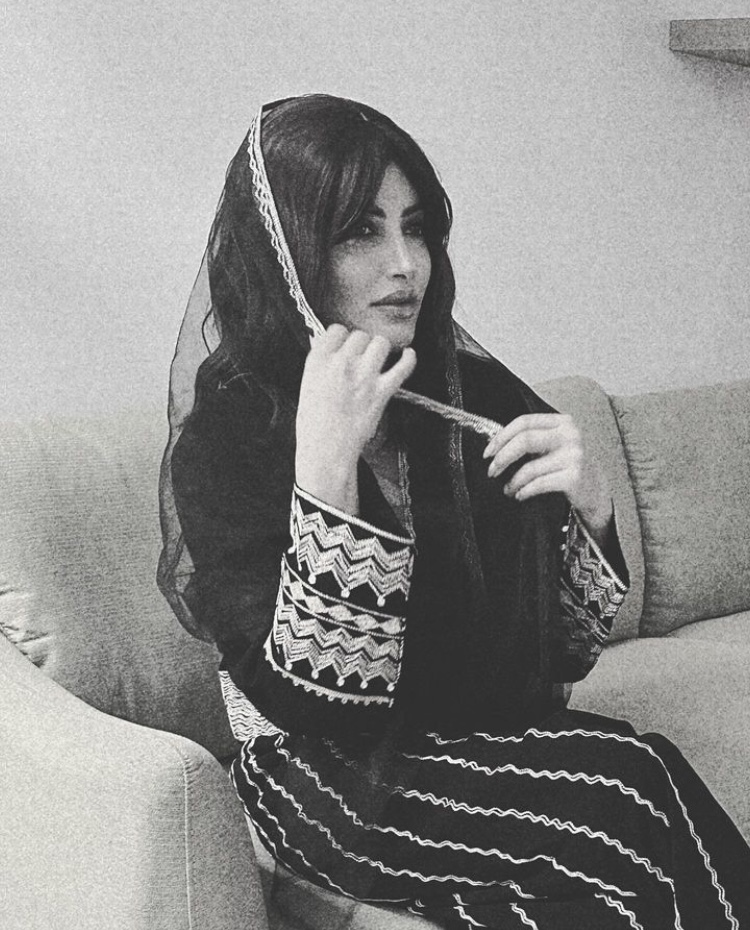Saudi_Founding_Day: (152, 87, 750, 930)
